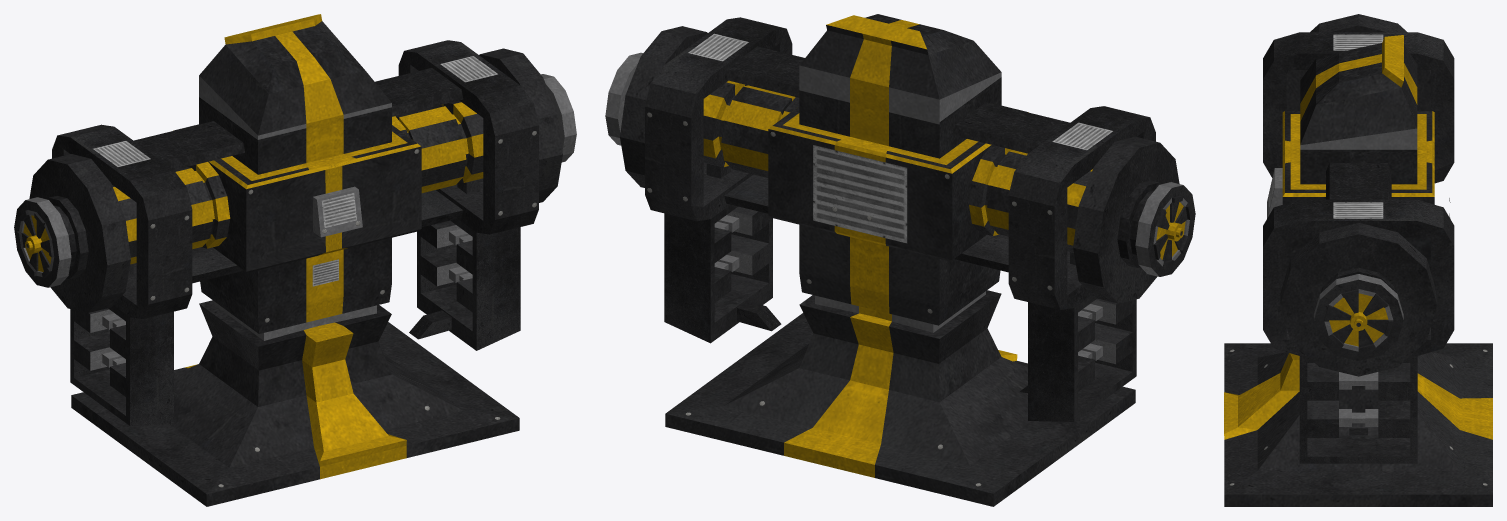
File: Machine1.fbx
3 renders of one model, left to right at view 1: azimuth 30°, elevation 25°; view 2: azimuth 150°, elevation 25°; view 3: azimuth 270°, elevation 25°, orthographic. The views are drawn at different scales.
Parts seen in each view (by area): view 1: Machine, Cube.001, Cylinder, Cube.002, Tinys; view 2: Machine, Cube.001, Cylinder, Cube.002, Tinys; view 3: Machine, Cube.001, Cylinder, Cube.002, Tinys.
Part boxes in pixels (left/top/right/bottom): Machine: left=71, top=14, right=519, bottom=506; Cube.001: left=52, top=40, right=538, bottom=318; Cylinder: left=14, top=48, right=576, bottom=312; Cube.002: left=70, top=218, right=520, bottom=425; Tinys: left=93, top=56, right=536, bottom=487; Machine: left=665, top=14, right=1135, bottom=506; Cube.001: left=645, top=17, right=1155, bottom=309; Cylinder: left=605, top=26, right=1195, bottom=303; Cube.002: left=664, top=204, right=1136, bottom=421; Tinys: left=647, top=33, right=1112, bottom=486; Machine: left=1224, top=35, right=1492, bottom=506; Cube.001: left=1263, top=32, right=1454, bottom=355; Cylinder: left=1280, top=14, right=1437, bottom=376; Cube.002: left=1299, top=356, right=1417, bottom=463; Tinys: left=1229, top=34, right=1487, bottom=485.
Bounding box in the file's own units: 641 × 438 × 281.
3 materials, 3 textured.
